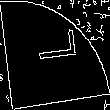L_W: (30, 36, 80, 74)
